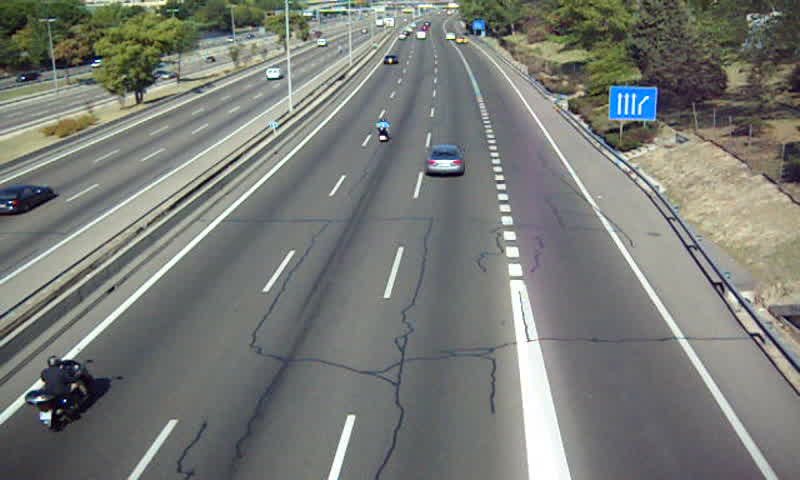car: (425, 147, 463, 174), (382, 54, 398, 67)
motorcycle: (24, 355, 94, 431), (376, 119, 391, 145)
